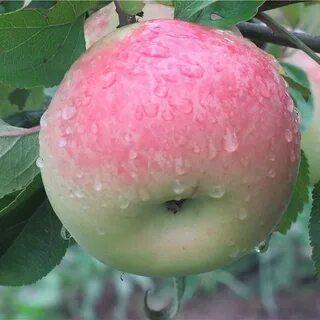Apple: (36, 23, 301, 276)
